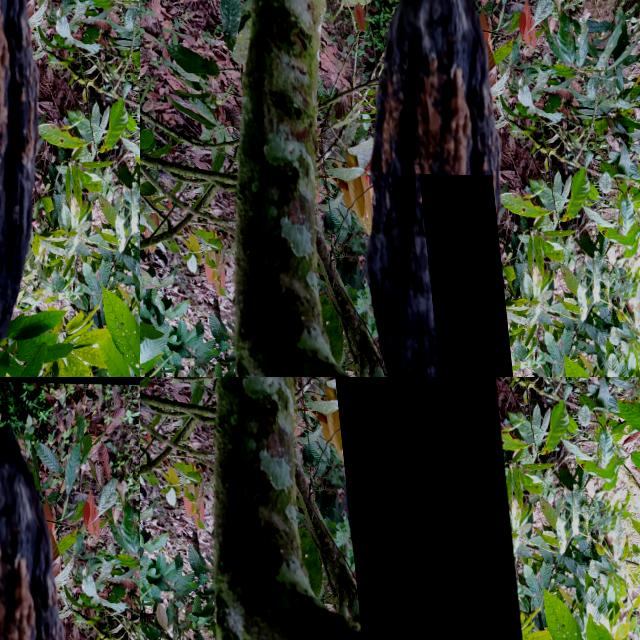Fitoftora: (312, 377, 512, 640)
Sana: (253, 0, 365, 211), (413, 172, 506, 377)
